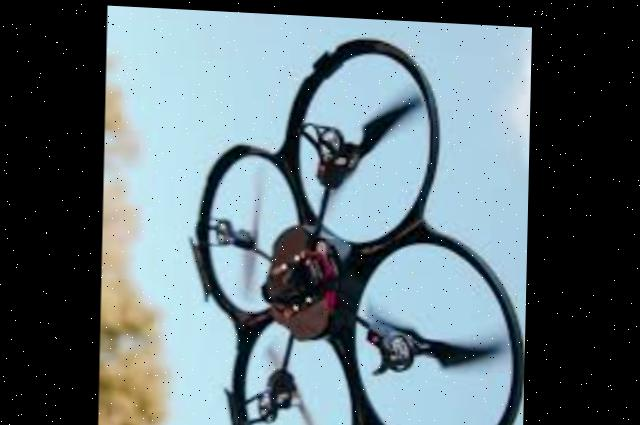drone: (174, 13, 532, 425)
